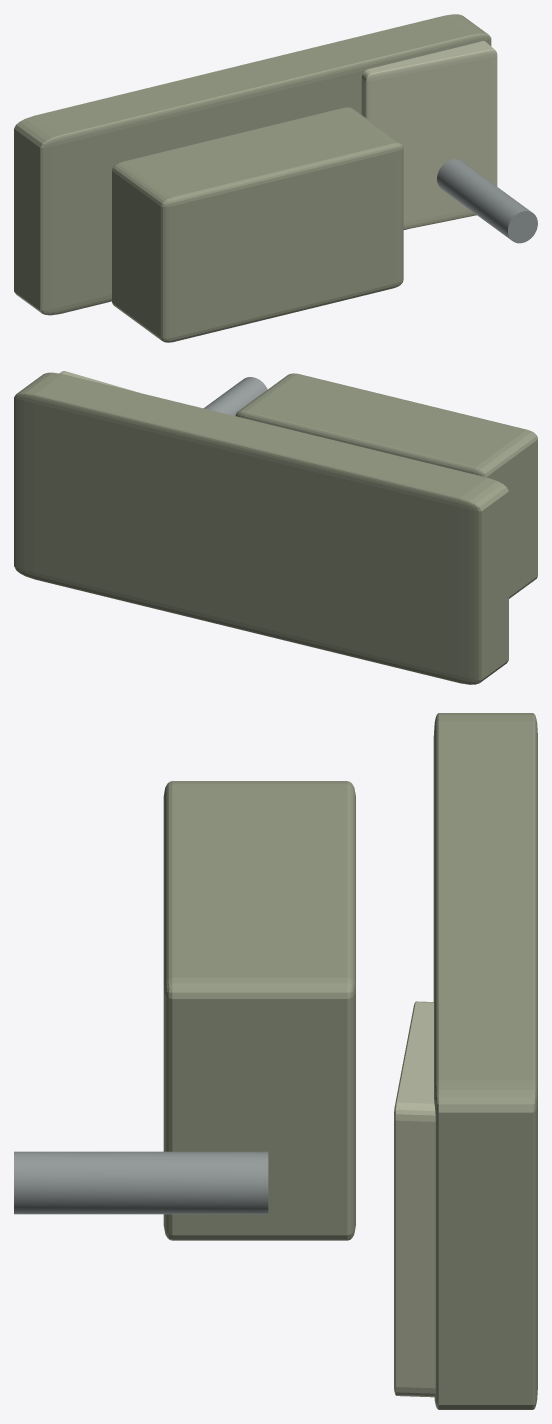
File: v-u18-vanguard-recovery-vehicle-lod2.glb
3 renders of one model, top to bottom at view 1: azimuth 30°, elevation 25°; view 2: azimuth 150°, elevation 25°; view 3: azimuth 270°, elevation 25°, orthographic. The views are drawn at different scales.
Parts seen in each view (by area): view 1: recovery_superstructure, chassis_lower, chassis_nose, winch; view 2: chassis_lower, recovery_superstructure, winch; view 3: recovery_superstructure, chassis_lower, winch, chassis_nose.
Part boxes in pixels (x1,y1,x2,y2): recovery_superstructure: (112, 107, 403, 342); chassis_lower: (14, 14, 491, 315); chassis_nose: (361, 41, 497, 229); winch: (437, 159, 537, 243); chassis_lower: (14, 372, 508, 684); recovery_superstructure: (235, 373, 537, 598); winch: (203, 377, 267, 415); recovery_superstructure: (163, 781, 355, 1240); chassis_lower: (433, 713, 537, 1409); winch: (14, 1151, 268, 1214); chassis_nose: (394, 1001, 435, 1397).
Size of what is drawn, in the model's own units: 6.94 by 2.63 by 3.89.
